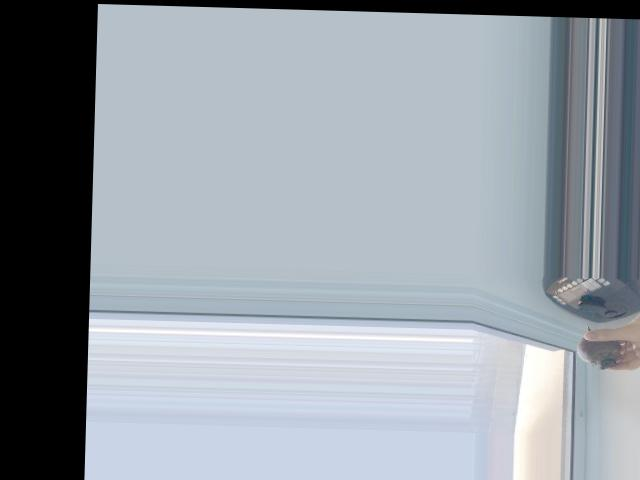beet: (576, 325, 626, 369)
